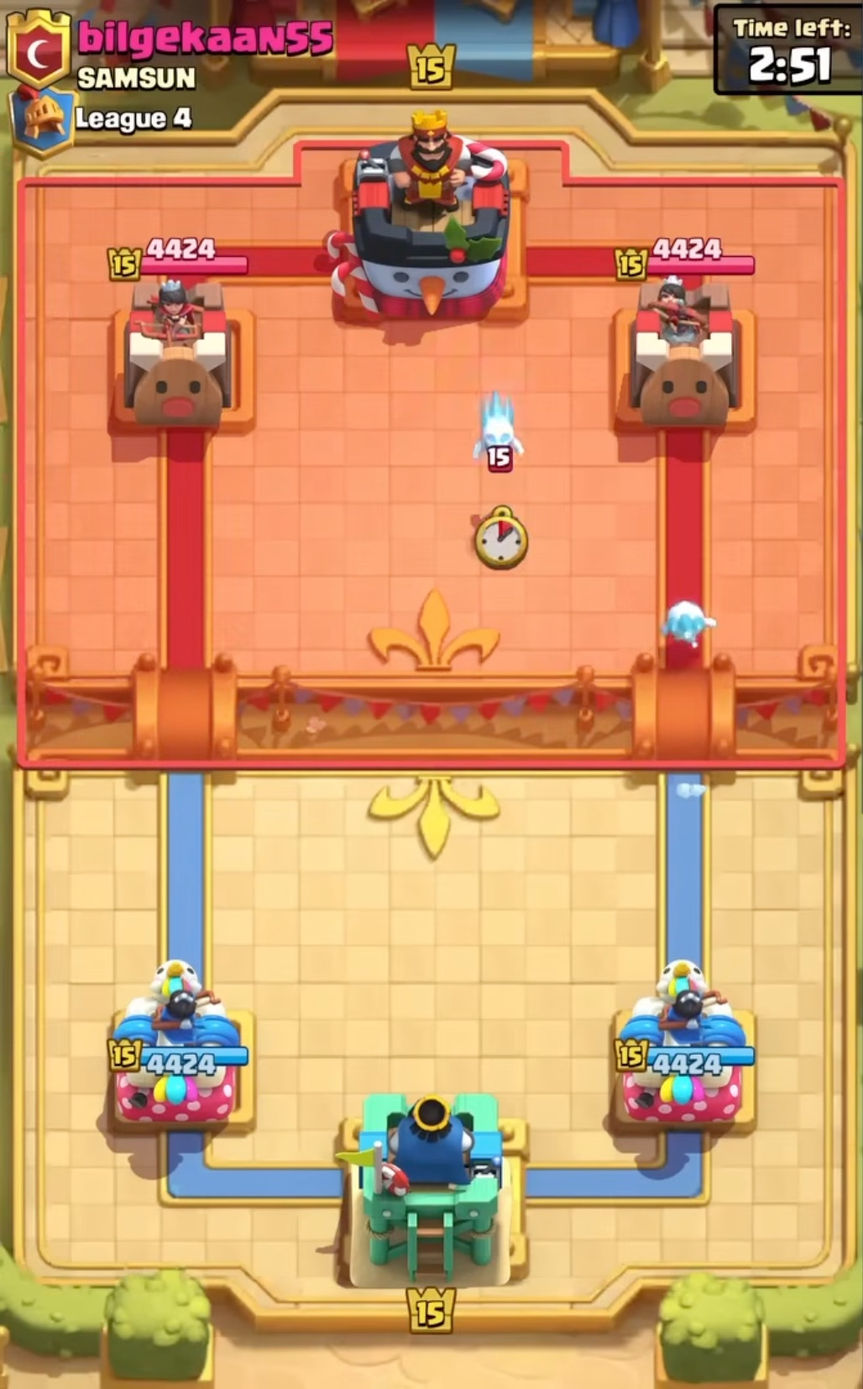ice_spirit: (655, 596, 725, 657)
